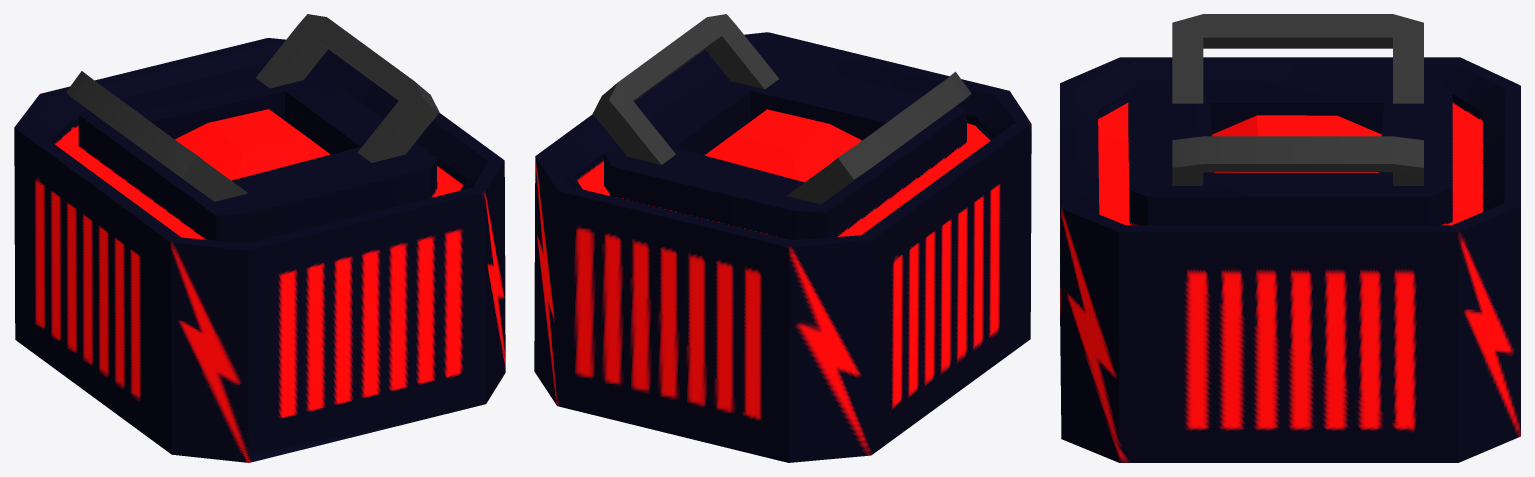
The model's file is BATTERY.glb.
3 renders of one model, left to right at view 1: azimuth 30°, elevation 25°; view 2: azimuth 150°, elevation 25°; view 3: azimuth 270°, elevation 25°, orthographic. The views are drawn at different scales.
Visible parts, largest first — view 1: bettery; view 2: bettery; view 3: bettery.
Boxes of the visible parts, box(x1,y1,x2,y2) form: bettery: box(14, 14, 505, 462); bettery: box(534, 14, 1031, 462); bettery: box(1060, 14, 1520, 462).
Size of what is drawn, in the model's own units: 1.1 by 0.8724 by 1.21.
Materials: 1 (1 with a texture image).
